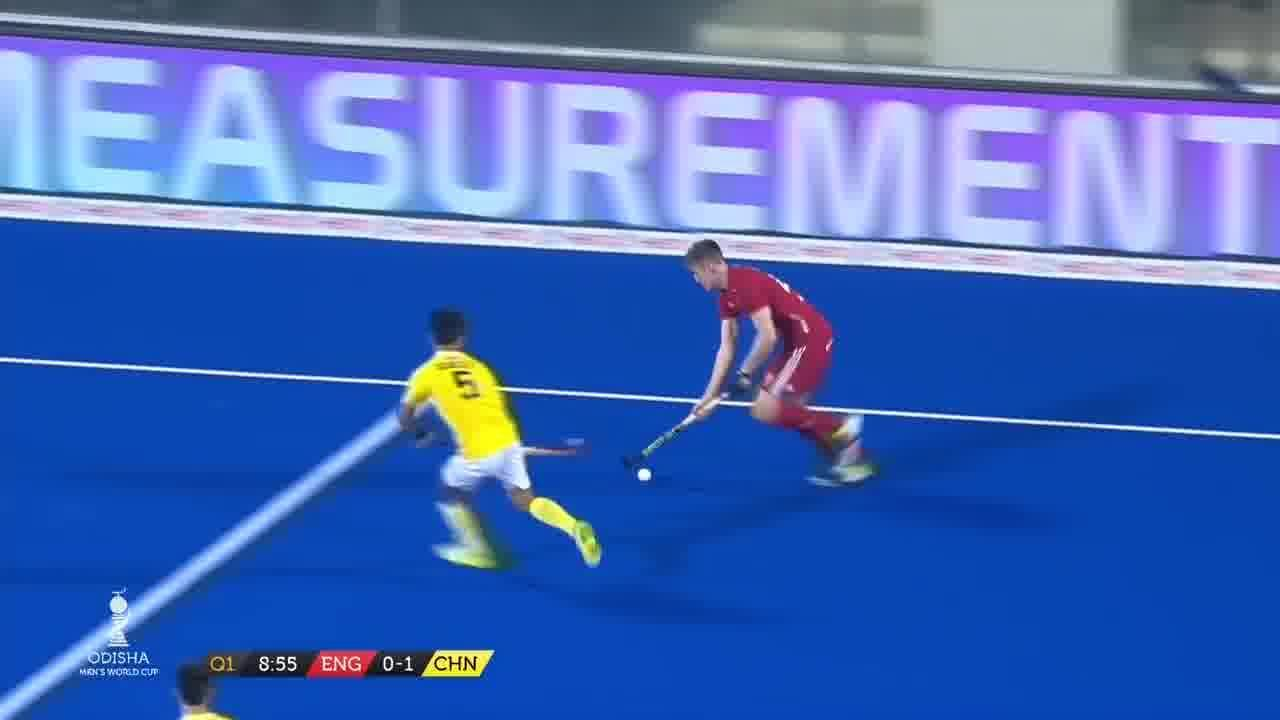ball: (632, 465, 660, 493)
